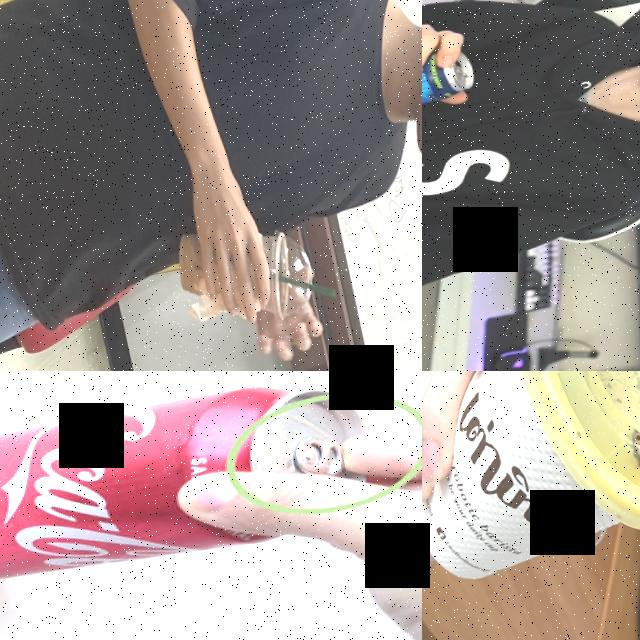can: (0, 371, 422, 623), (422, 43, 477, 124)
cup: (422, 371, 640, 591), (172, 212, 320, 339)
